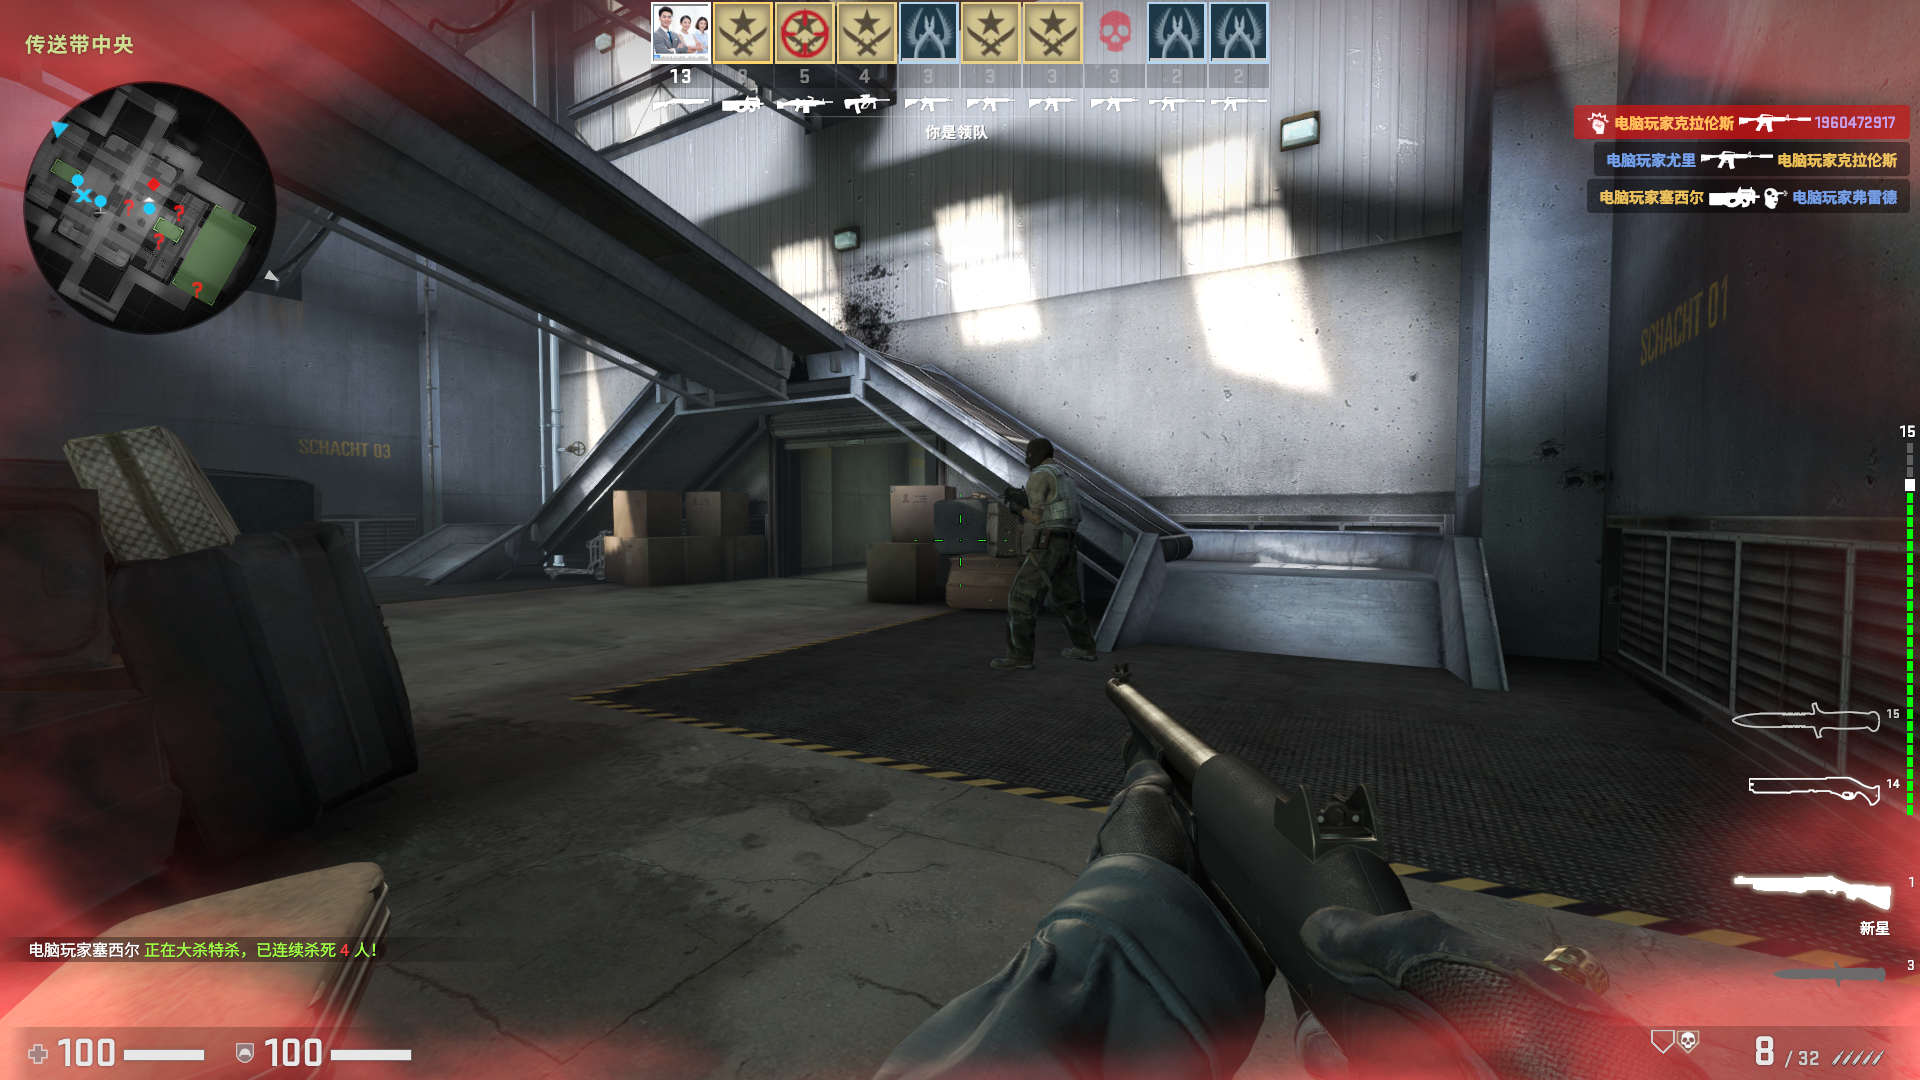person: (992, 434, 1088, 672)
